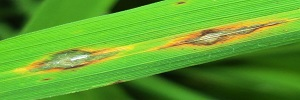RiceBlast: (15, 44, 141, 76), (157, 20, 295, 47)
